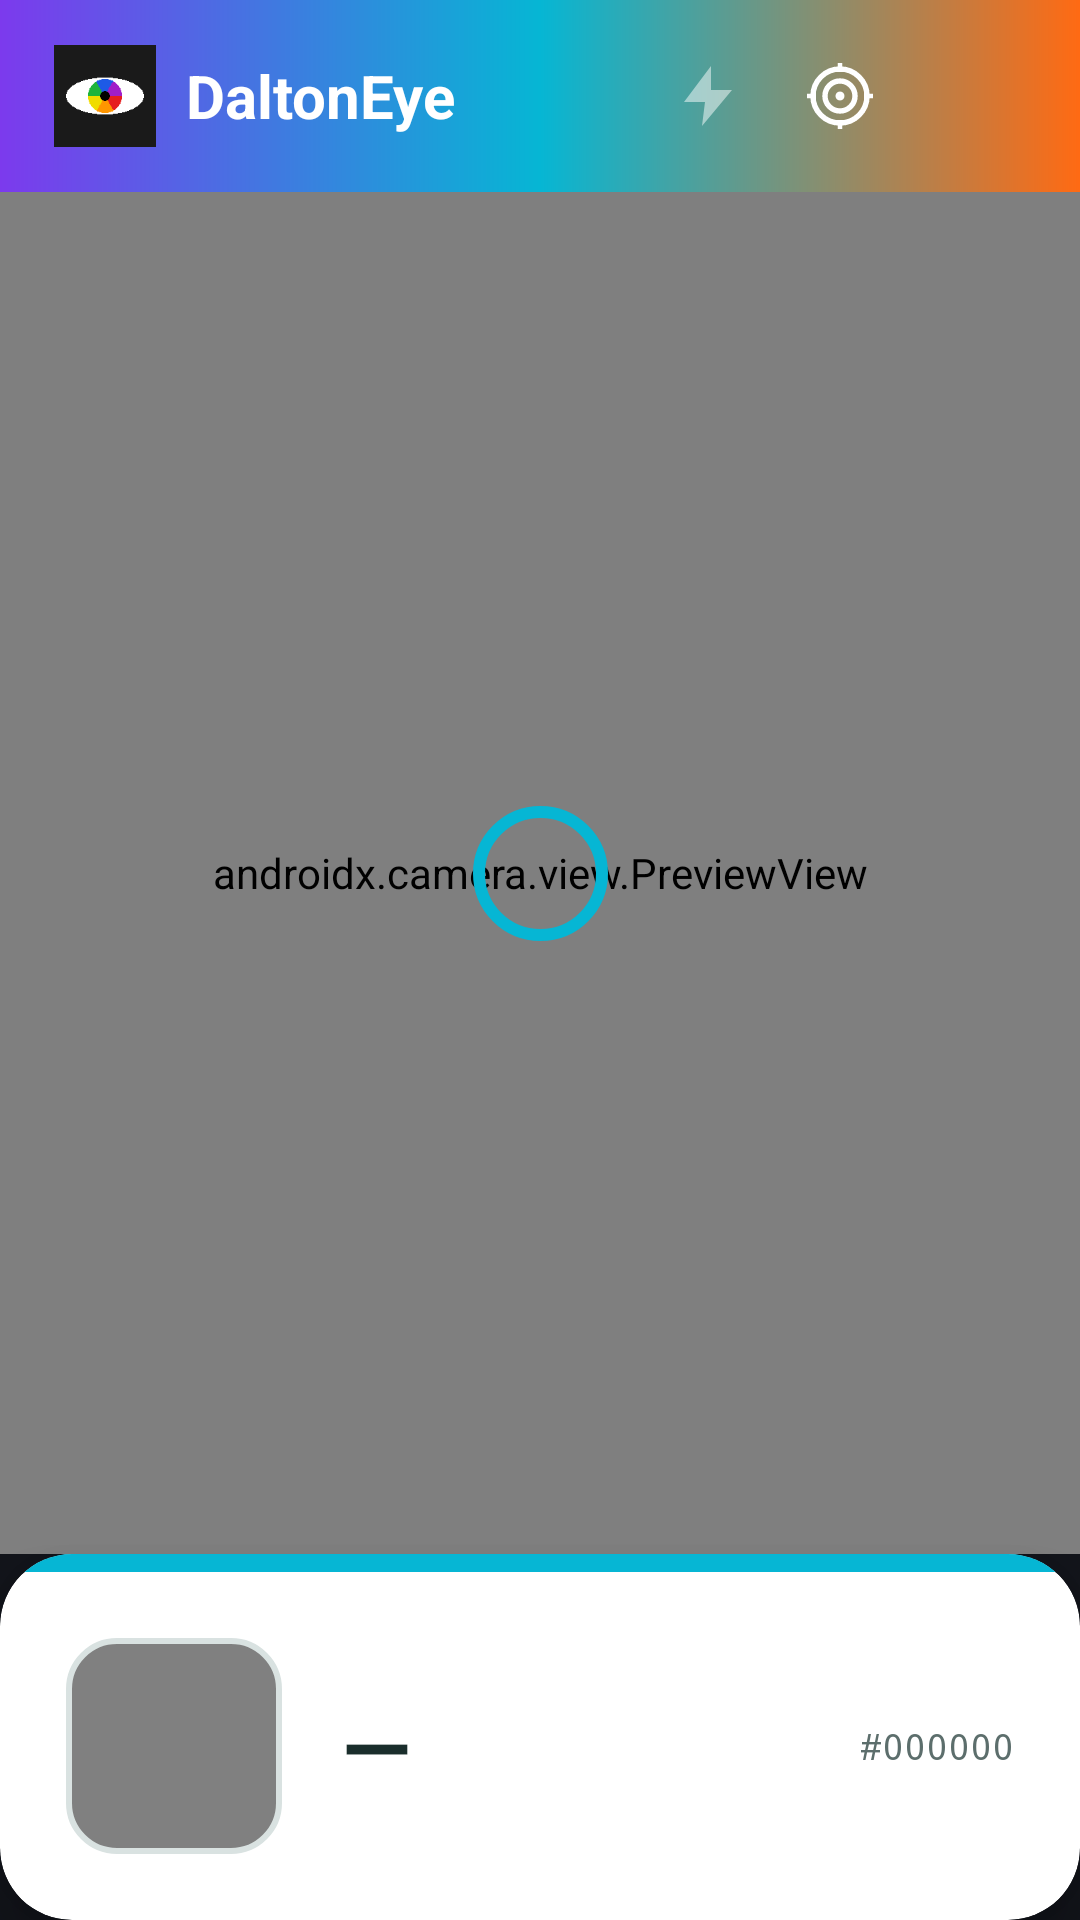

Screen size 1080 × 1920. Icon name, then its center in pixels as (x,y):
Activer/desactiver la lampe torche: (708,96)
Calibrer maintenant: (840,96)
reticule zone: (540,873)
